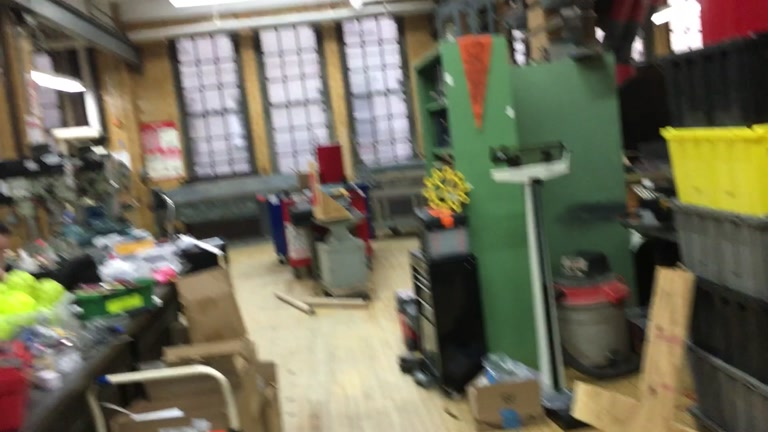gear: (423, 164, 471, 212)
